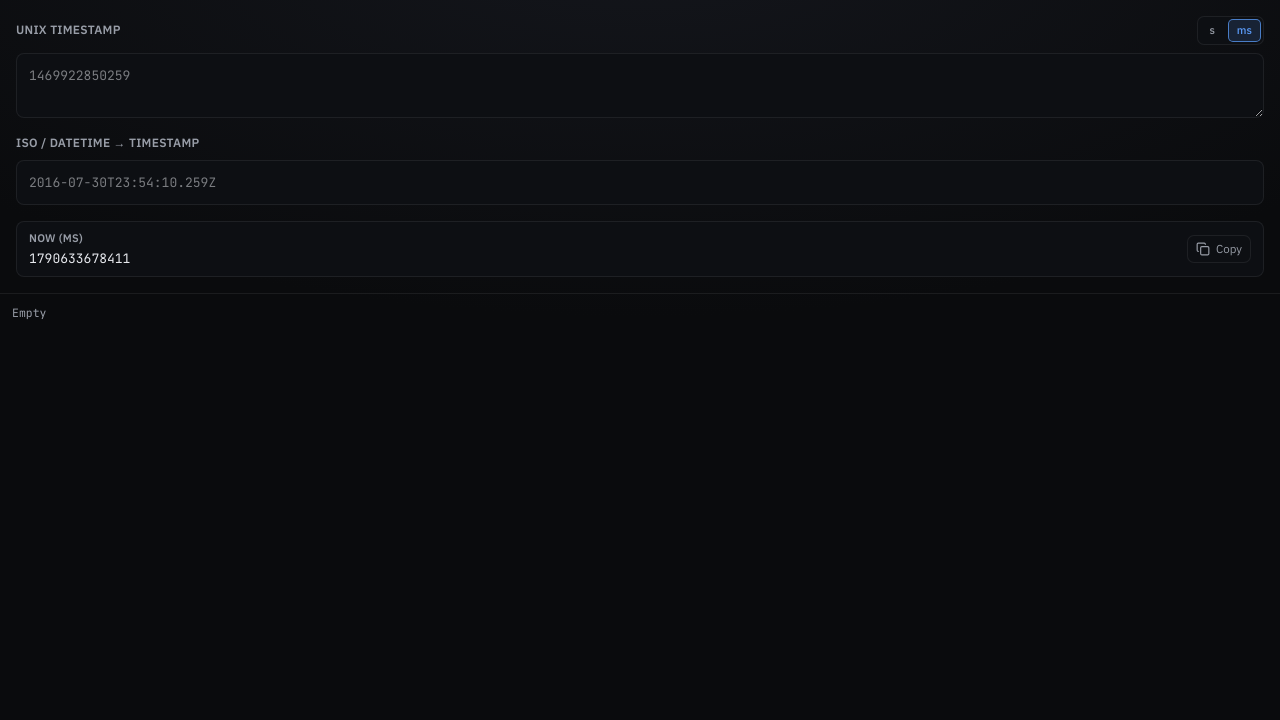
it: UnixTimeTool › typing a seconds timestamp auto-detects 's' and renders UTC + ISO
Type "1469922850" into the text box labelled "Unix Timestamp" at (640, 85), box [16,52,1264,118]
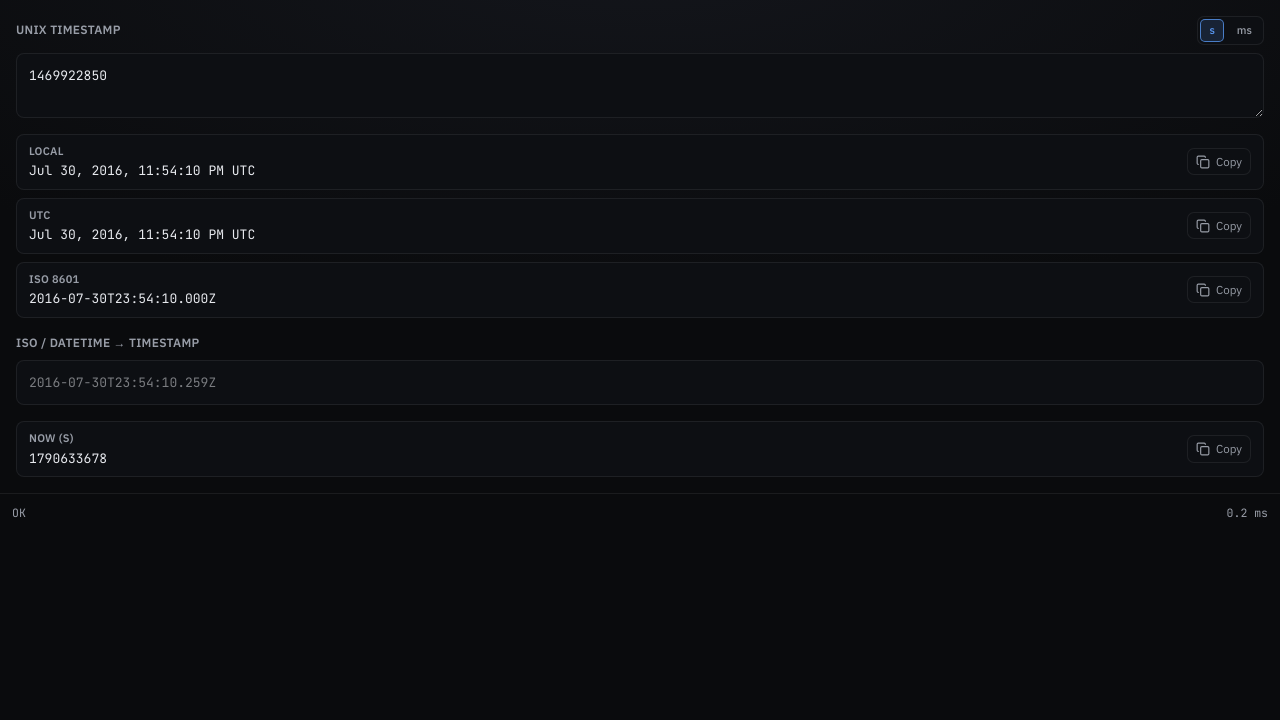
Check: the text with id "unix-time-iso" reads "2016-07-30T23:54:10.000Z", box [29,290,216,307]
